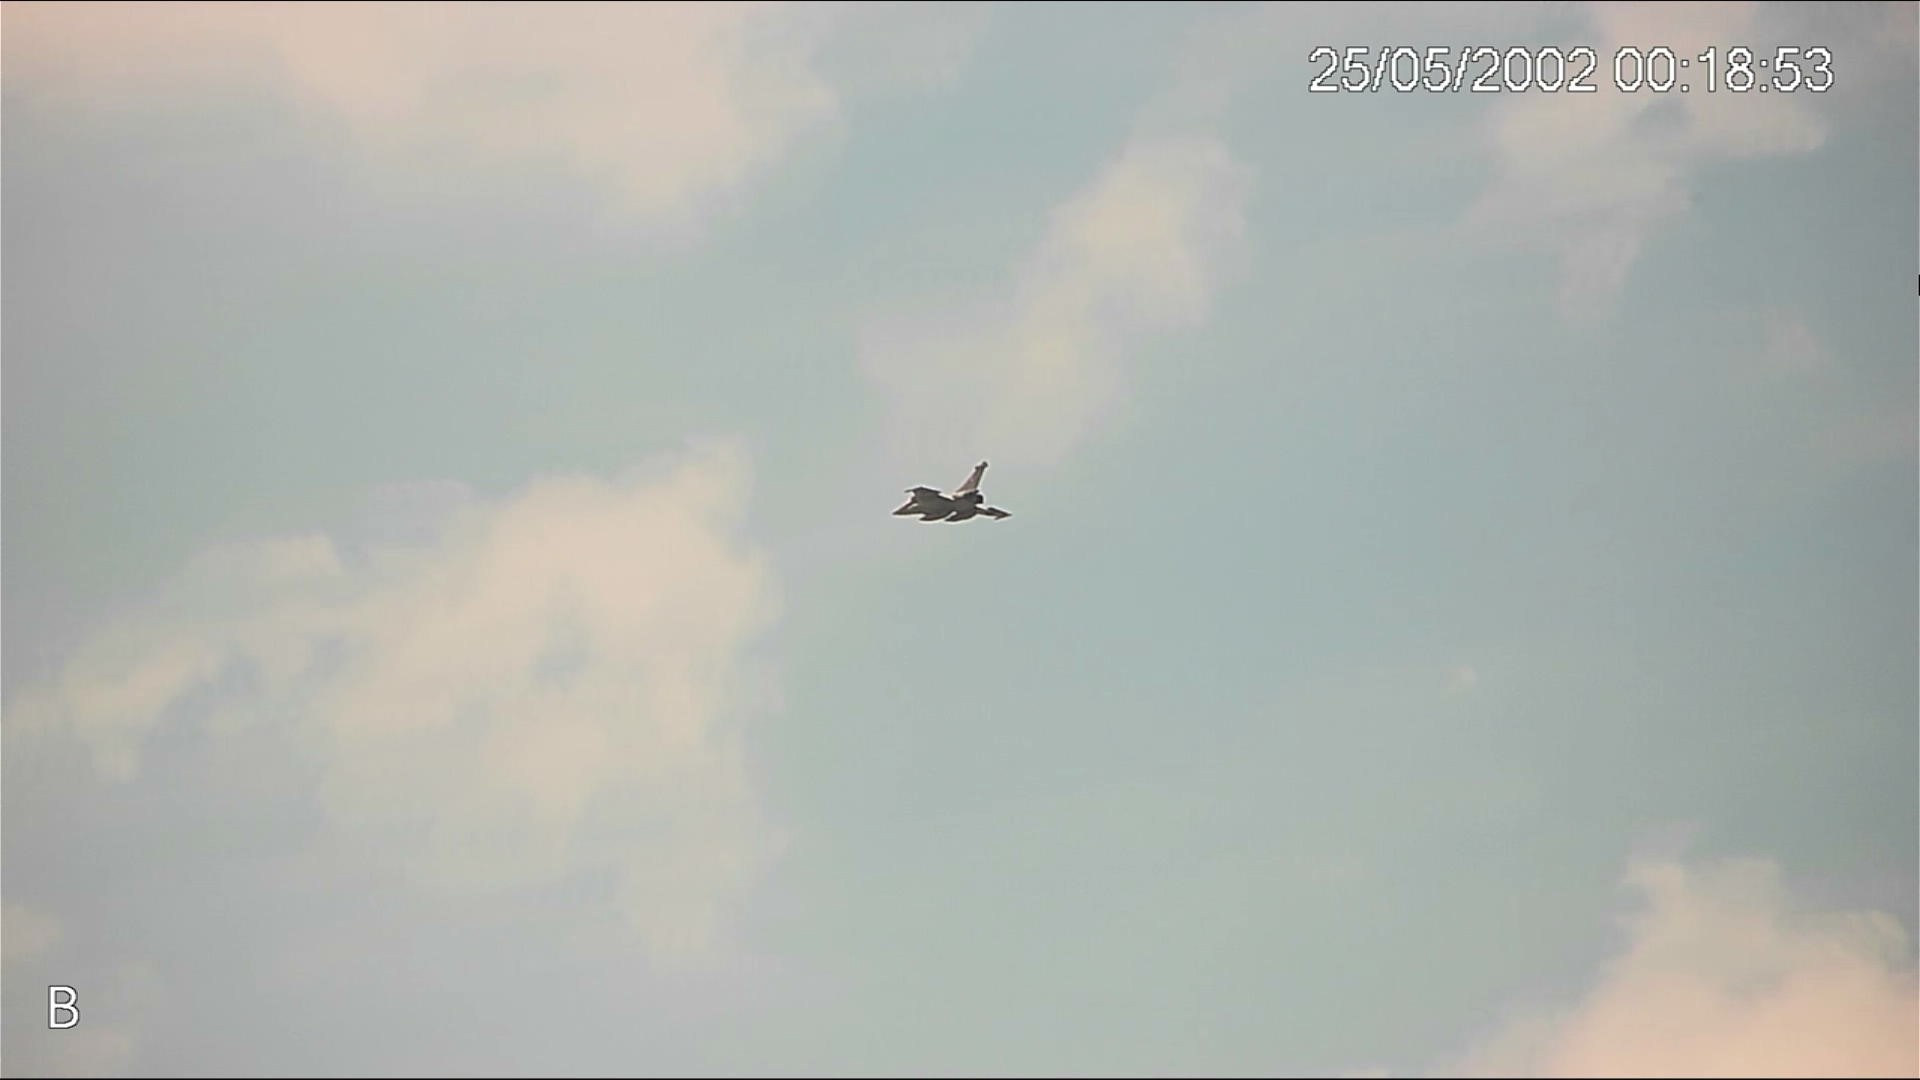SU_30: (891, 460, 1018, 531)
